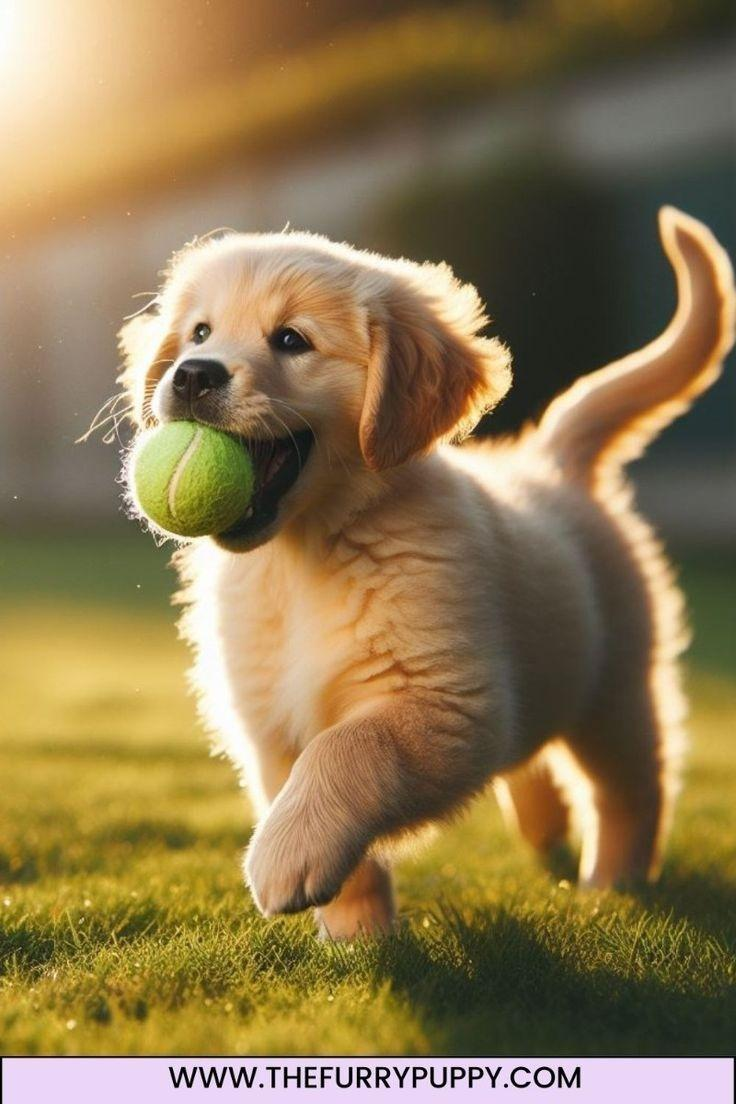puppy-dog: (109, 202, 736, 945)
